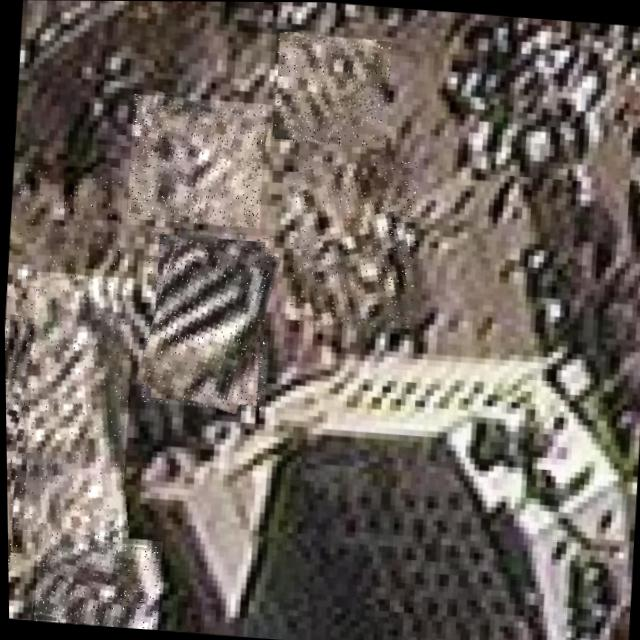Rubble: (3, 270, 135, 538), (137, 227, 274, 410), (281, 153, 420, 331), (124, 93, 266, 228), (270, 31, 392, 147), (5, 161, 123, 270), (30, 532, 161, 629), (3, 284, 37, 572)
